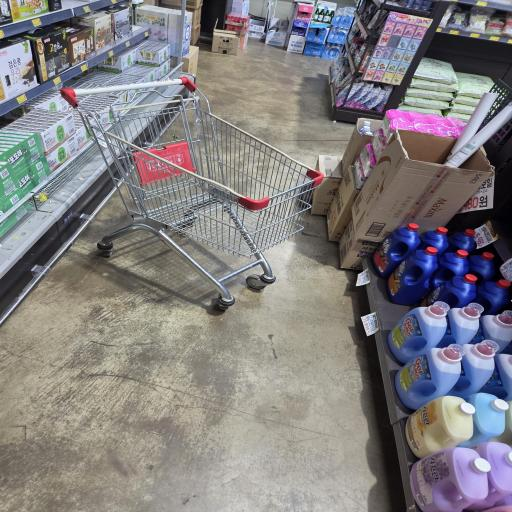empty_cart: (50, 79, 328, 307)
